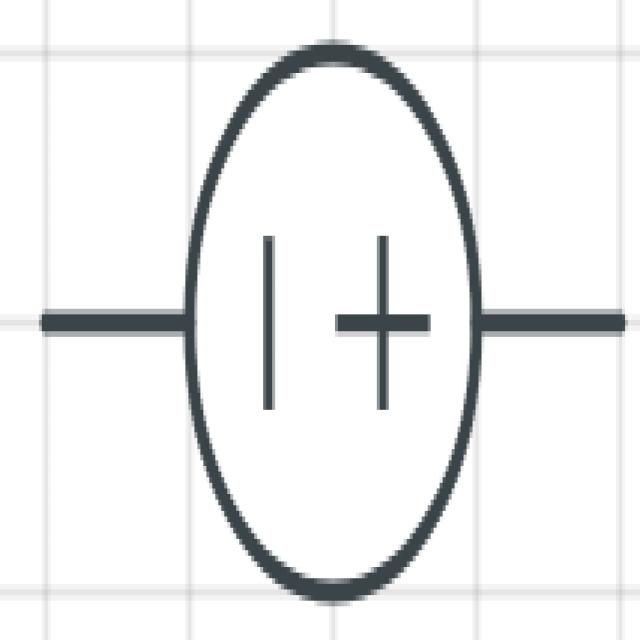vdc: (29, 20, 631, 616)
